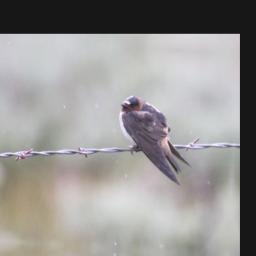Swallow: (114, 93, 197, 187)
